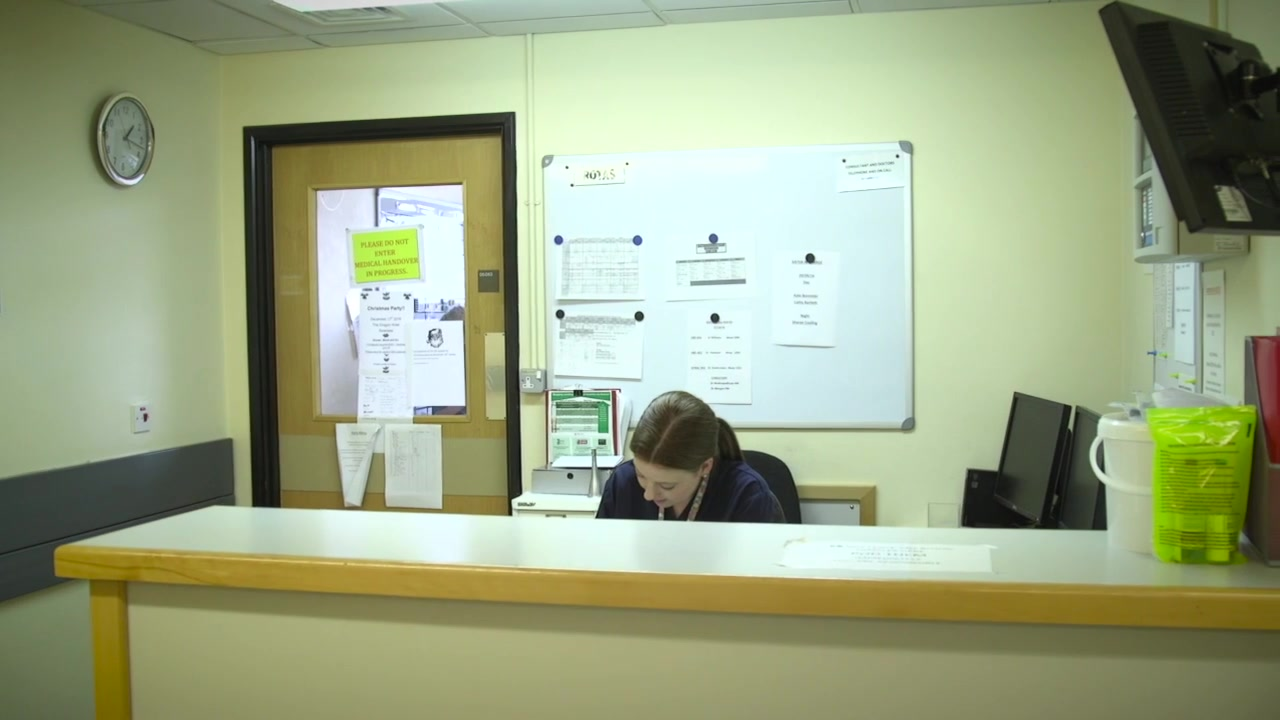TV: (1097, 1, 1280, 236)
chair: (740, 450, 811, 526)
computer: (991, 388, 1073, 526), (1050, 406, 1107, 531)
counter: (68, 503, 1277, 720)
countertop: (56, 498, 1280, 633)
staff: (595, 388, 791, 524)
